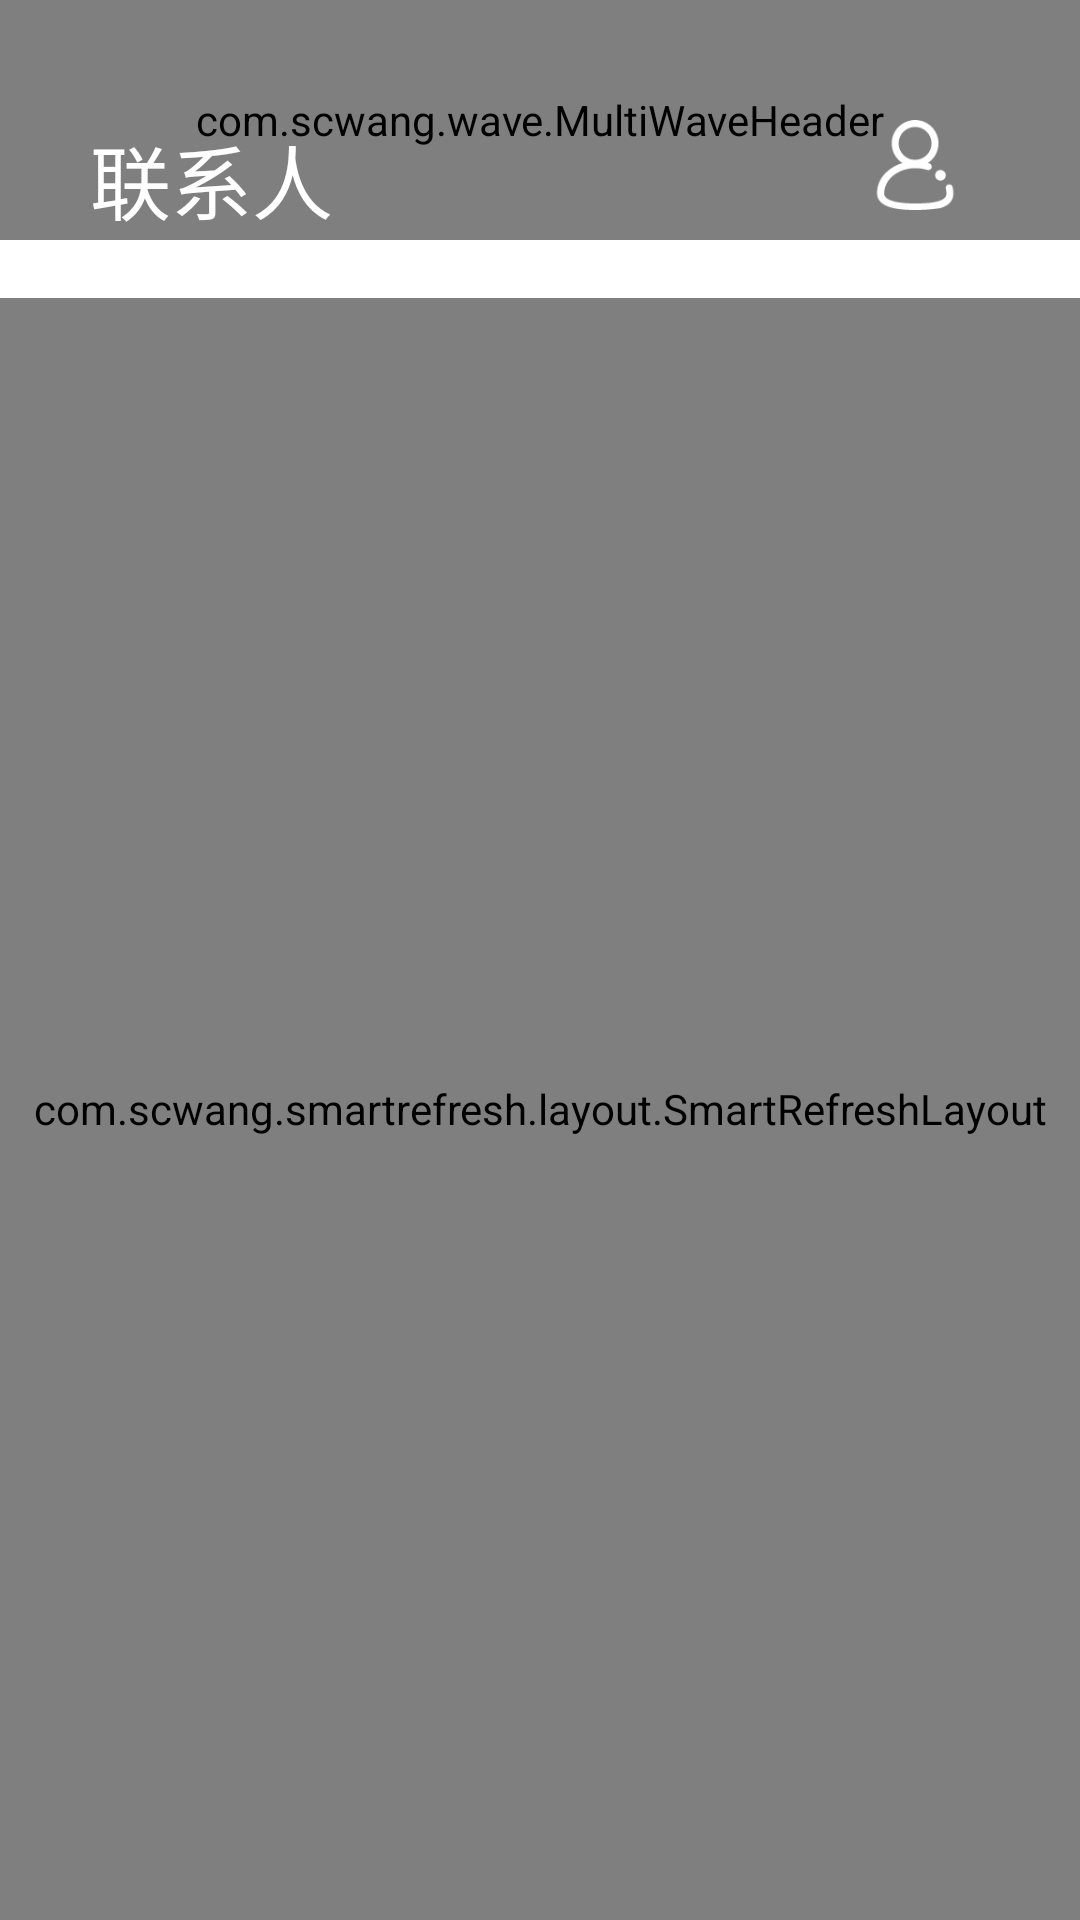

Where to tap for icons on this 1080×1920 app screen, as (x,y):
user contact: (915,165)
